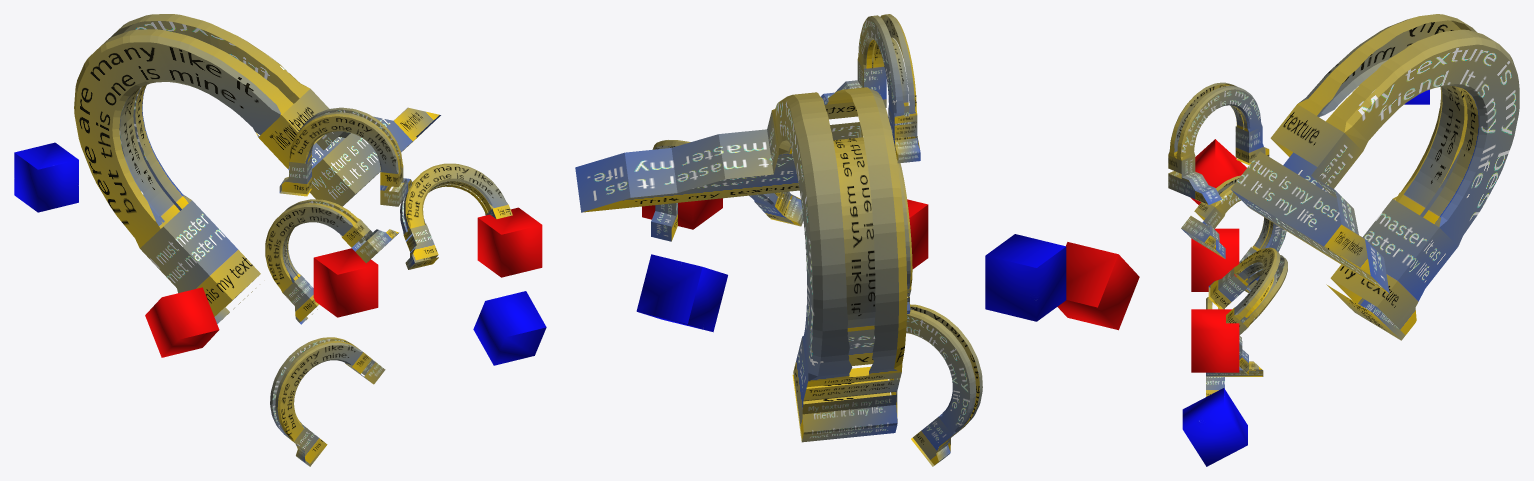
File: blender.dae
The picture shows the model from 3 angles, left to right: view 1: azimuth 30°, elevation 25°; view 2: azimuth 150°, elevation 25°; view 3: azimuth 270°, elevation 25°; orthographic projection. The views are drawn at different scales.
Parts seen in each view (by area): view 1: _NC_node00000000032CC920, _NC_node0000000003299B90, _NC_node00000000032982B0, _NC_node0000000003298C80, _NC_node00000000032CCC40, _NC_node0000000003286500, _NC_node0000000003280A90, _NC_node000000000327F300, _NC_node0000000003280770, _NC_node0000000003276610; view 2: _NC_node00000000032CC920, _NC_node00000000032982B0, _NC_node0000000003280A90, _NC_node0000000003298C80, _NC_node0000000003276610, _NC_node0000000003286500, _NC_node00000000032CCC40, _NC_node000000000327F300, _NC_node0000000003280770, _NC_node0000000003299B90; view 3: _NC_node00000000032CC920, _NC_node00000000032982B0, _NC_node00000000032CCC40, _NC_node0000000003286500, _NC_node0000000003280770, _NC_node0000000003299B90, _NC_node000000000327F300, _NC_node0000000003276610, _NC_node0000000003298C80.
Part boxes in pixels (x1,y1,x2,y2): _NC_node00000000032CC920: [74, 14, 440, 323]; _NC_node0000000003299B90: [265, 199, 398, 324]; _NC_node00000000032982B0: [279, 107, 412, 206]; _NC_node0000000003298C80: [270, 337, 385, 466]; _NC_node00000000032CCC40: [400, 163, 512, 269]; _NC_node0000000003286500: [473, 291, 546, 365]; _NC_node0000000003280A90: [14, 142, 78, 212]; _NC_node000000000327F300: [313, 248, 378, 317]; _NC_node0000000003280770: [477, 207, 542, 277]; _NC_node0000000003276610: [145, 287, 219, 357]; _NC_node00000000032CC920: [575, 87, 907, 442]; _NC_node00000000032982B0: [821, 14, 920, 163]; _NC_node0000000003280A90: [985, 234, 1066, 321]; _NC_node0000000003298C80: [906, 304, 982, 466]; _NC_node0000000003276610: [1057, 242, 1139, 330]; _NC_node0000000003286500: [636, 254, 727, 332]; _NC_node00000000032CCC40: [651, 140, 803, 241]; _NC_node000000000327F300: [907, 199, 928, 268]; _NC_node0000000003280770: [642, 198, 722, 229]; _NC_node0000000003299B90: [897, 163, 912, 313]; _NC_node00000000032CC920: [1230, 14, 1519, 340]; _NC_node00000000032982B0: [1168, 82, 1269, 204]; _NC_node00000000032CCC40: [1208, 247, 1287, 374]; _NC_node0000000003286500: [1182, 388, 1247, 466]; _NC_node0000000003280770: [1191, 309, 1239, 372]; _NC_node0000000003299B90: [1181, 175, 1286, 293]; _NC_node000000000327F300: [1191, 228, 1239, 291]; _NC_node0000000003276610: [1191, 139, 1246, 204]; _NC_node0000000003298C80: [1206, 297, 1263, 396].
Bounding box in the file's own units: 50 × 36.85 × 42.87.
